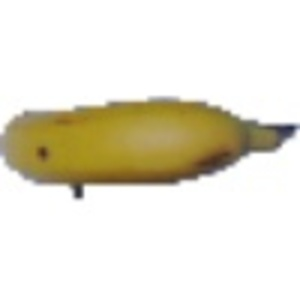banana: (3, 98, 285, 186)
